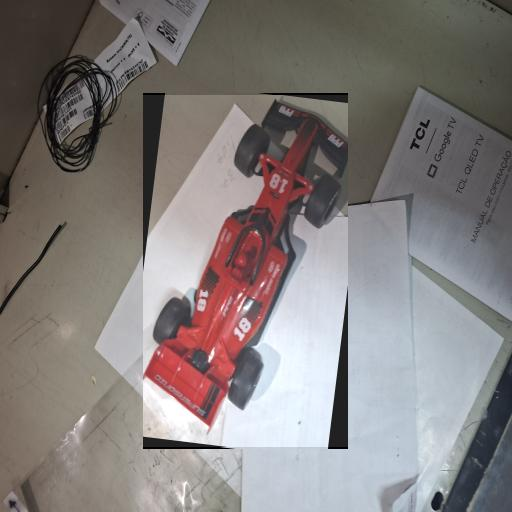carro: (143, 95, 348, 447)
